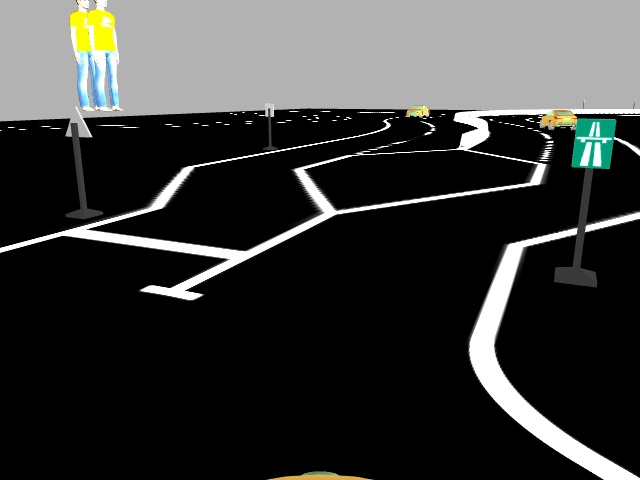HighwayEntrance: (570, 114, 616, 171)
